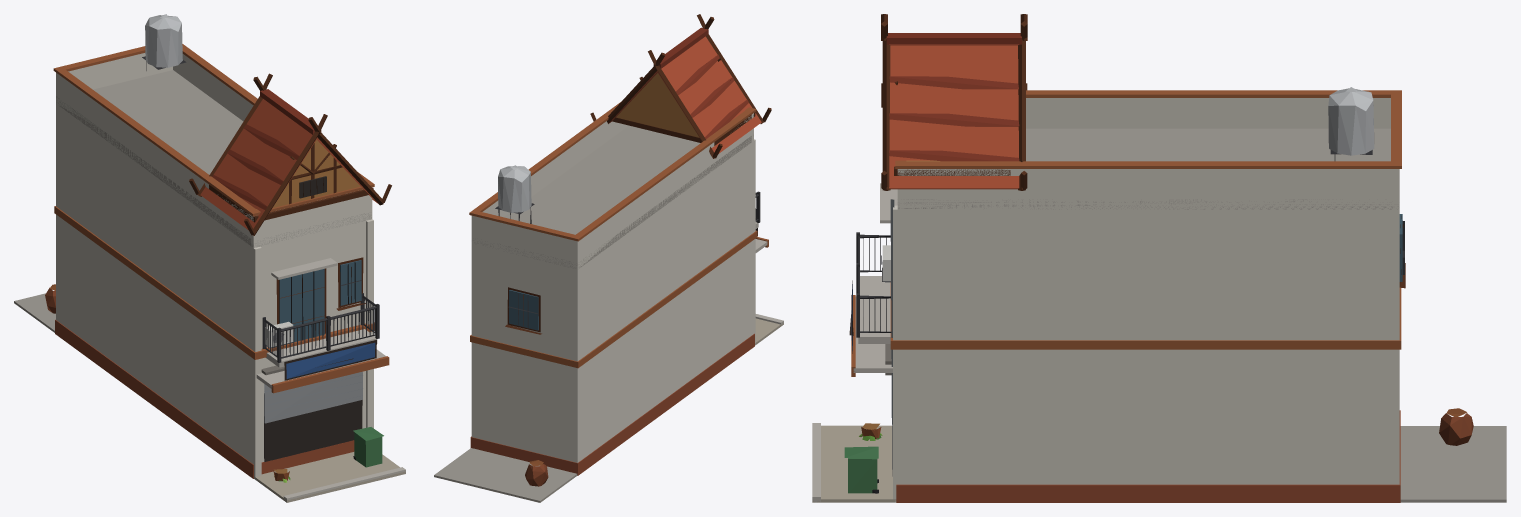
File: bay1_mid.glb
The picture shows the model from 3 angles, left to right: view 1: azimuth 30°, elevation 25°; view 2: azimuth 150°, elevation 25°; view 3: azimuth 270°, elevation 25°; orthographic projection. The views are drawn at different scales.
Parts seen in each view (by area): view 1: body, windows; view 2: body, windows; view 3: body.
Boxes of the visible parts, left/top/right/bottom form: body: left=14, top=14, right=405, bottom=502; windows: left=264, top=176, right=362, bottom=461; body: left=434, top=14, right=783, bottom=502; windows: left=509, top=290, right=538, bottom=330; body: left=812, top=14, right=1506, bottom=502.
Size of the model in its own units: 4.98 by 11.62 by 15.9.
